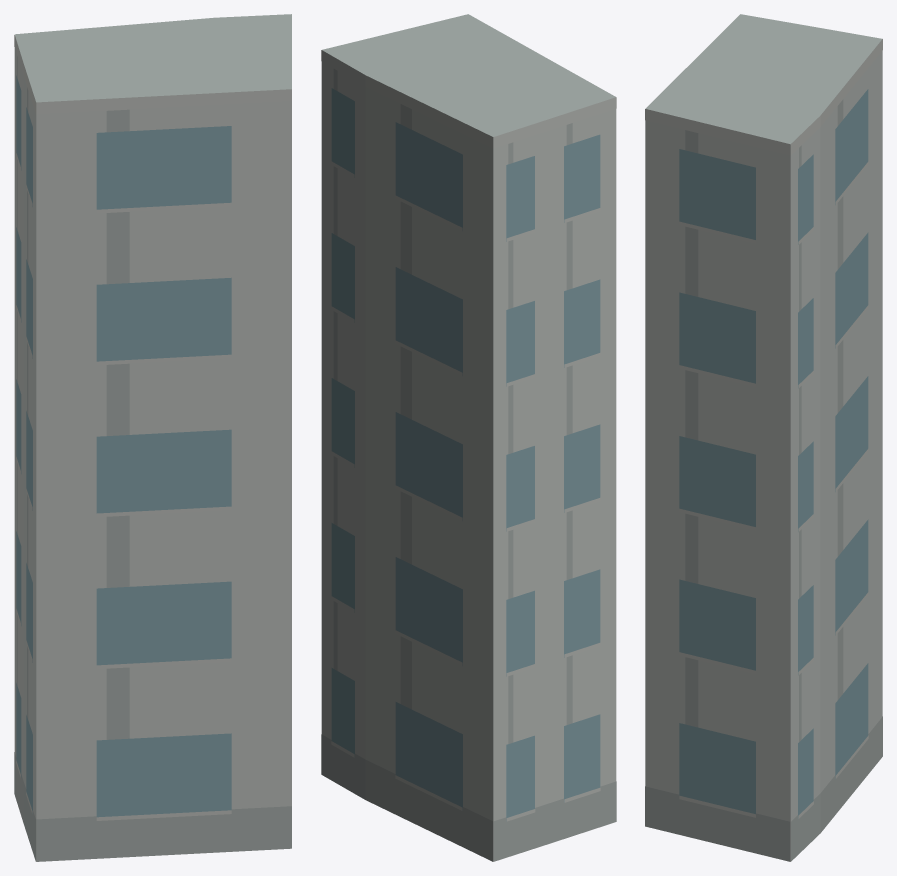
The model's file is survey-upis-32820197.glb.
The picture shows the model from 3 angles, left to right: view 1: azimuth 30°, elevation 25°; view 2: azimuth 150°, elevation 25°; view 3: azimuth 270°, elevation 25°; orthographic projection. The views are drawn at different scales.
Visible parts, largest first — view 1: survey-upis-32820197.tmp; view 2: survey-upis-32820197.tmp; view 3: survey-upis-32820197.tmp.
Boxes of the visible parts, <box> form: survey-upis-32820197.tmp: <box>14,14,291,861</box>; survey-upis-32820197.tmp: <box>321,14,616,861</box>; survey-upis-32820197.tmp: <box>645,14,882,861</box>.
Bounding box in the file's own units: 5.94 × 15.25 × 4.58.
